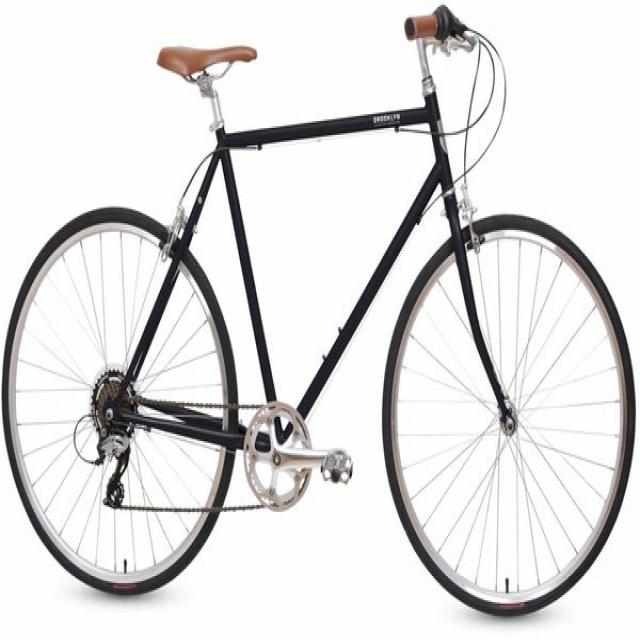bicycle: (4, 3, 636, 626)
